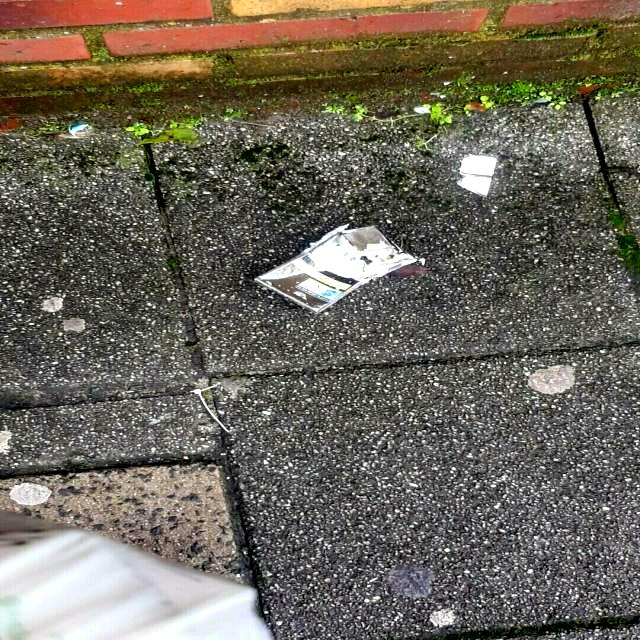Paper: (251, 222, 419, 316)
